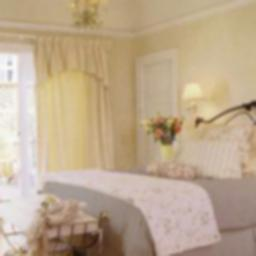Puerta: (139, 63, 174, 161)
